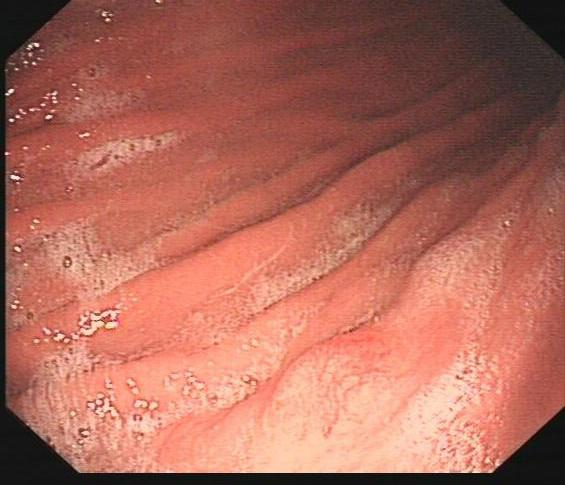Polyp: (258, 329, 388, 450)
